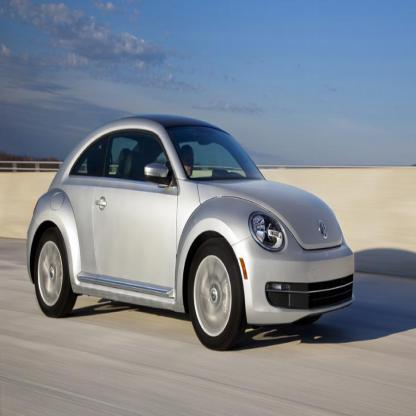Vehicle: (27, 111, 360, 357)
